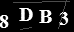3: (58, 11, 69, 26)
8: (1, 14, 10, 29)
B: (38, 9, 53, 24)
D: (18, 7, 34, 22)
